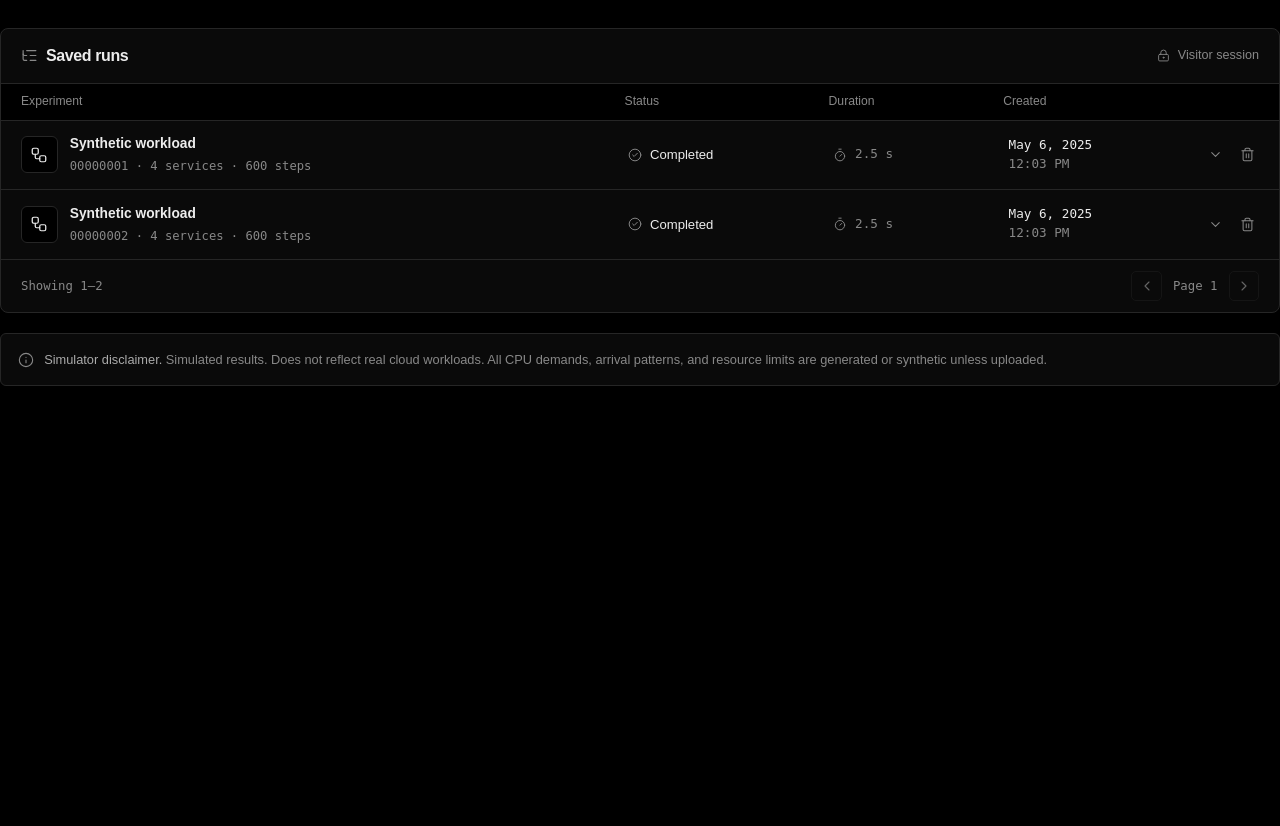
Test: HistoryPage › aborts a pending detail request and ignores its response after switching rows
Click the button with aria-label "Expand run 00000001-dcaf-4020-9beb-6afe8acfd369". click: (39, 155)
box: top-left (21, 120), bottom-right (1224, 189)
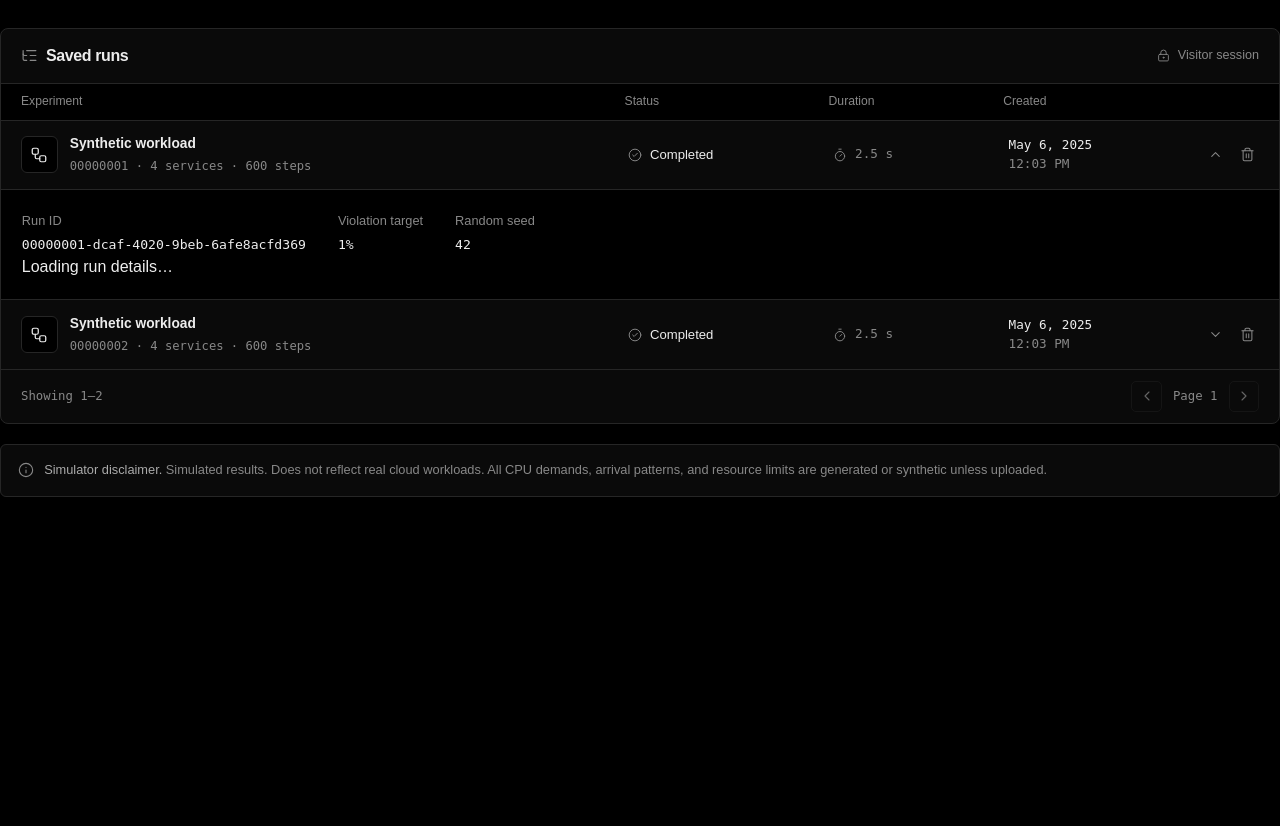
Expected: the text "Loading run details…" is shown, top-left (22, 258), bottom-right (173, 275)
Click the button with aria-label "Expand run 00000002-dcaf-4020-9beb-6afe8acfd369". click: (39, 335)
box: top-left (21, 300), bottom-right (1224, 369)
(page scrolled)
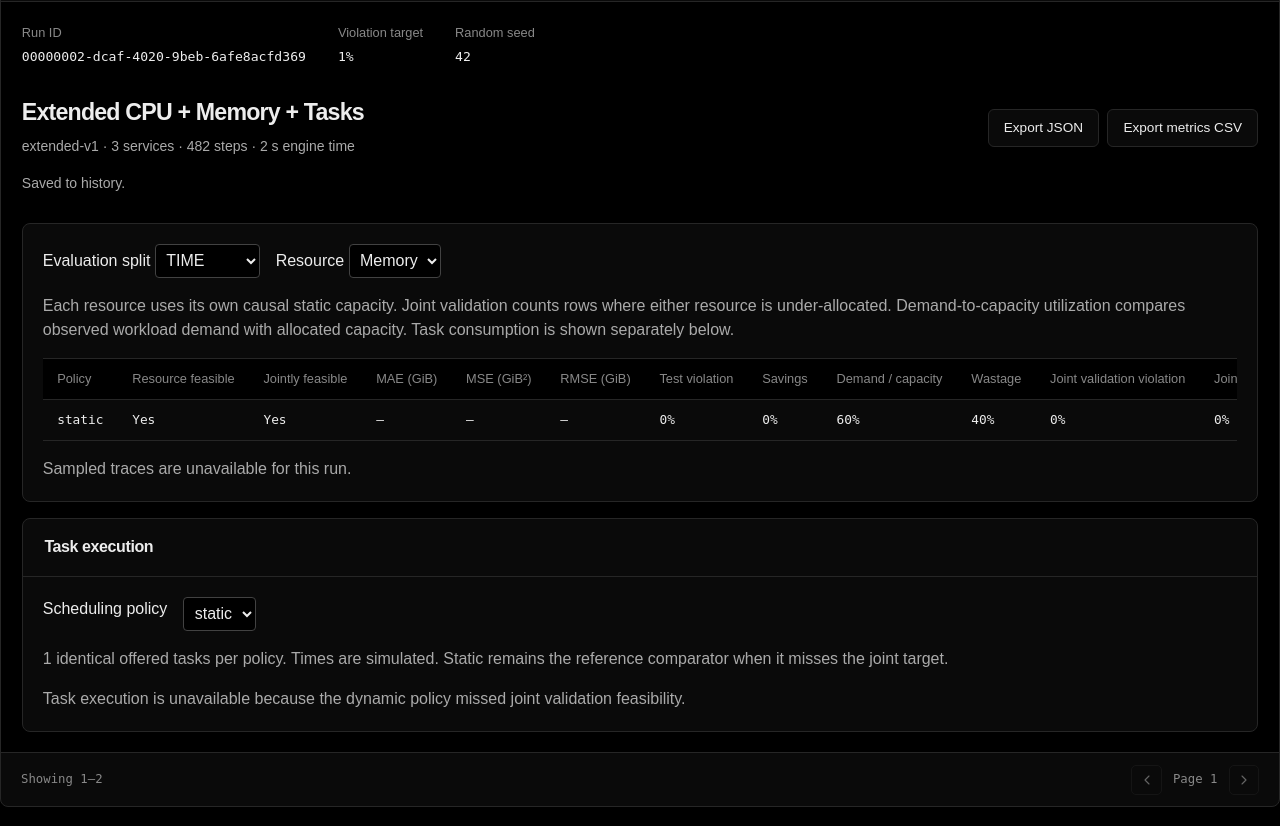
Expected: the heading "Extended CPU + Memory + Tasks" is shown, top-left (22, 98), bottom-right (364, 127)
